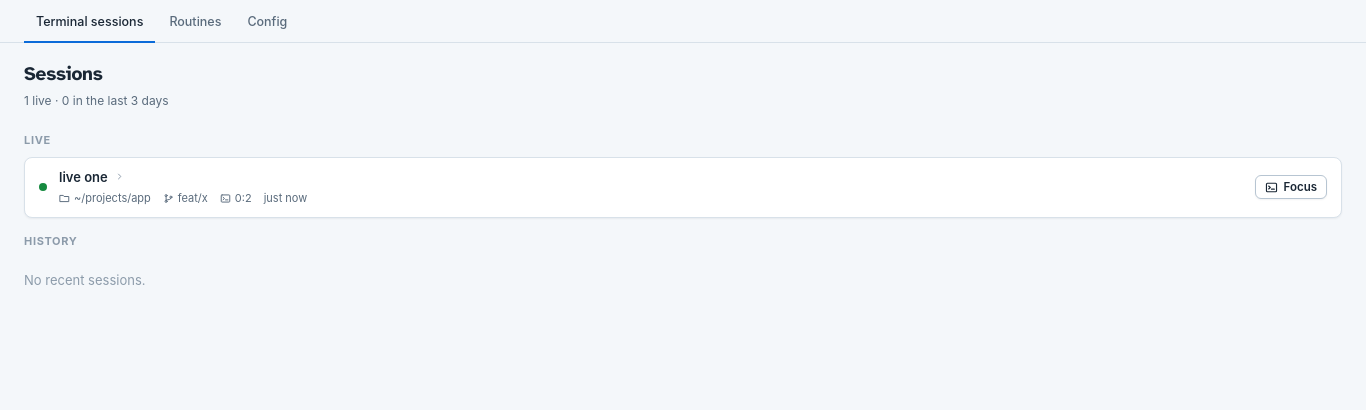
Scenario: SessionsView › generates a summary for a live session and retitles it
Click the button named "show summary" at (92, 177), box [59,168,126,187]
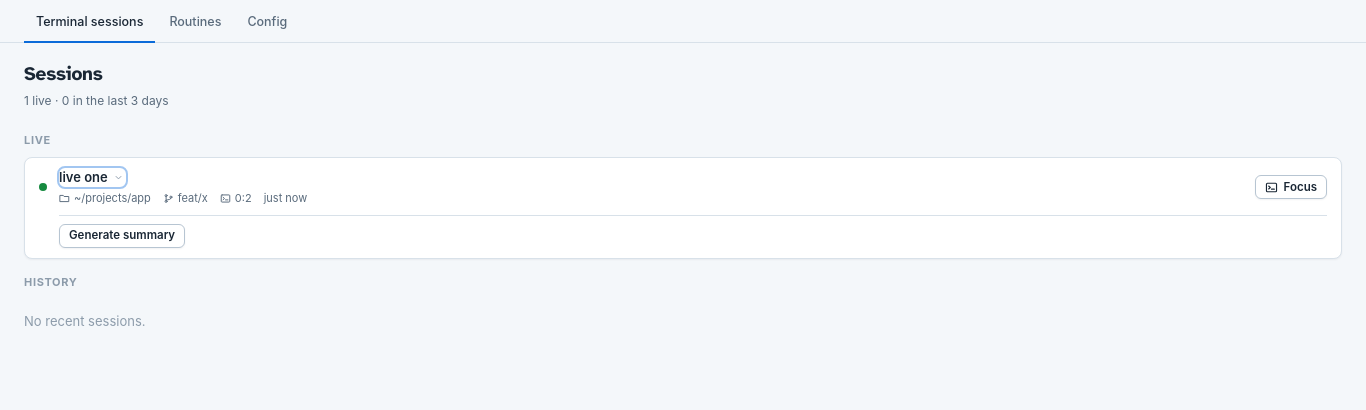
Click the button "Generate summary" at (122, 236), box [59,224,185,248]
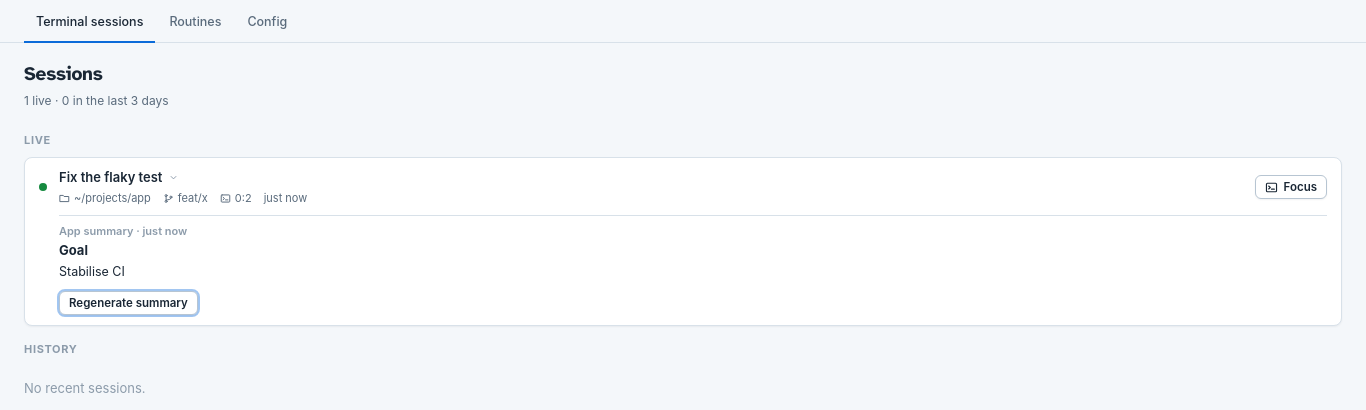
Now the text "Fix the flaky test" is shown, box [59,168,162,187]
Now the text "Stabilise CI" is shown, box [59,264,125,279]
Now the text "App summary · just now" is shown, box [59,224,187,238]
